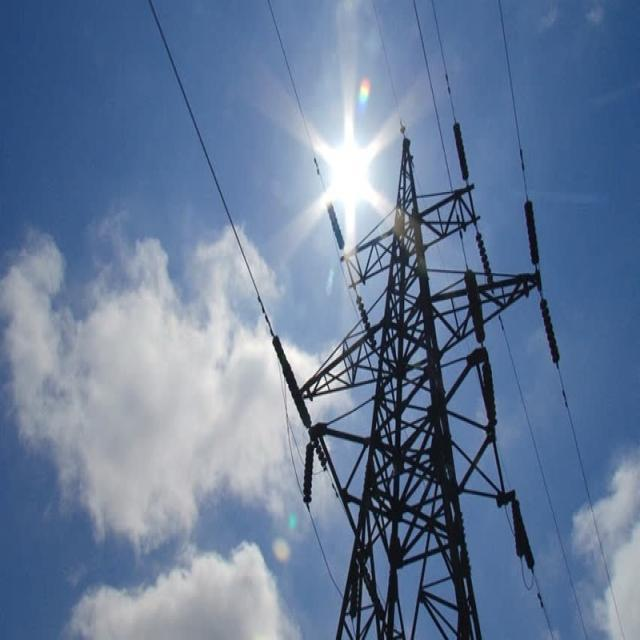non-critical vegetation: (320, 118, 546, 632)
